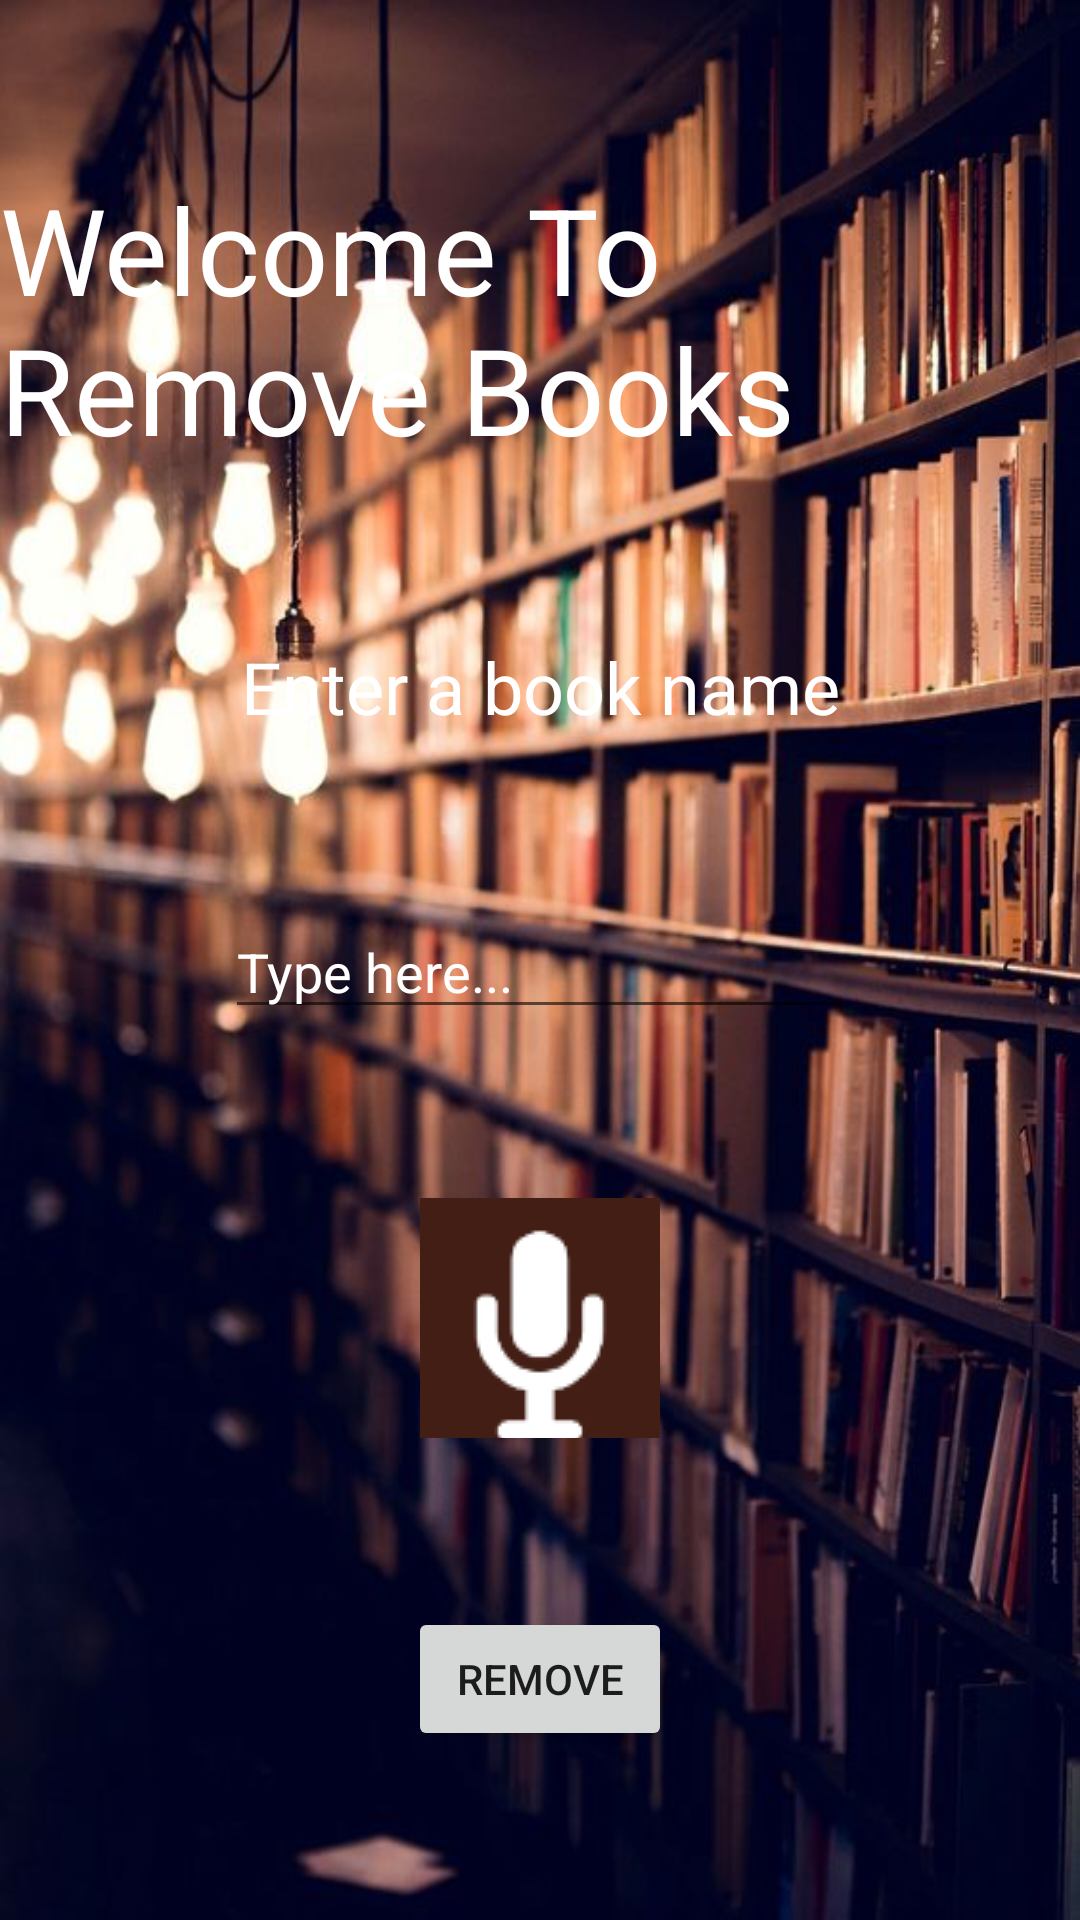

Screen size 1080px x 1920px. Icon name, then its center in pixels as (x,y):
record: (540,1318)
